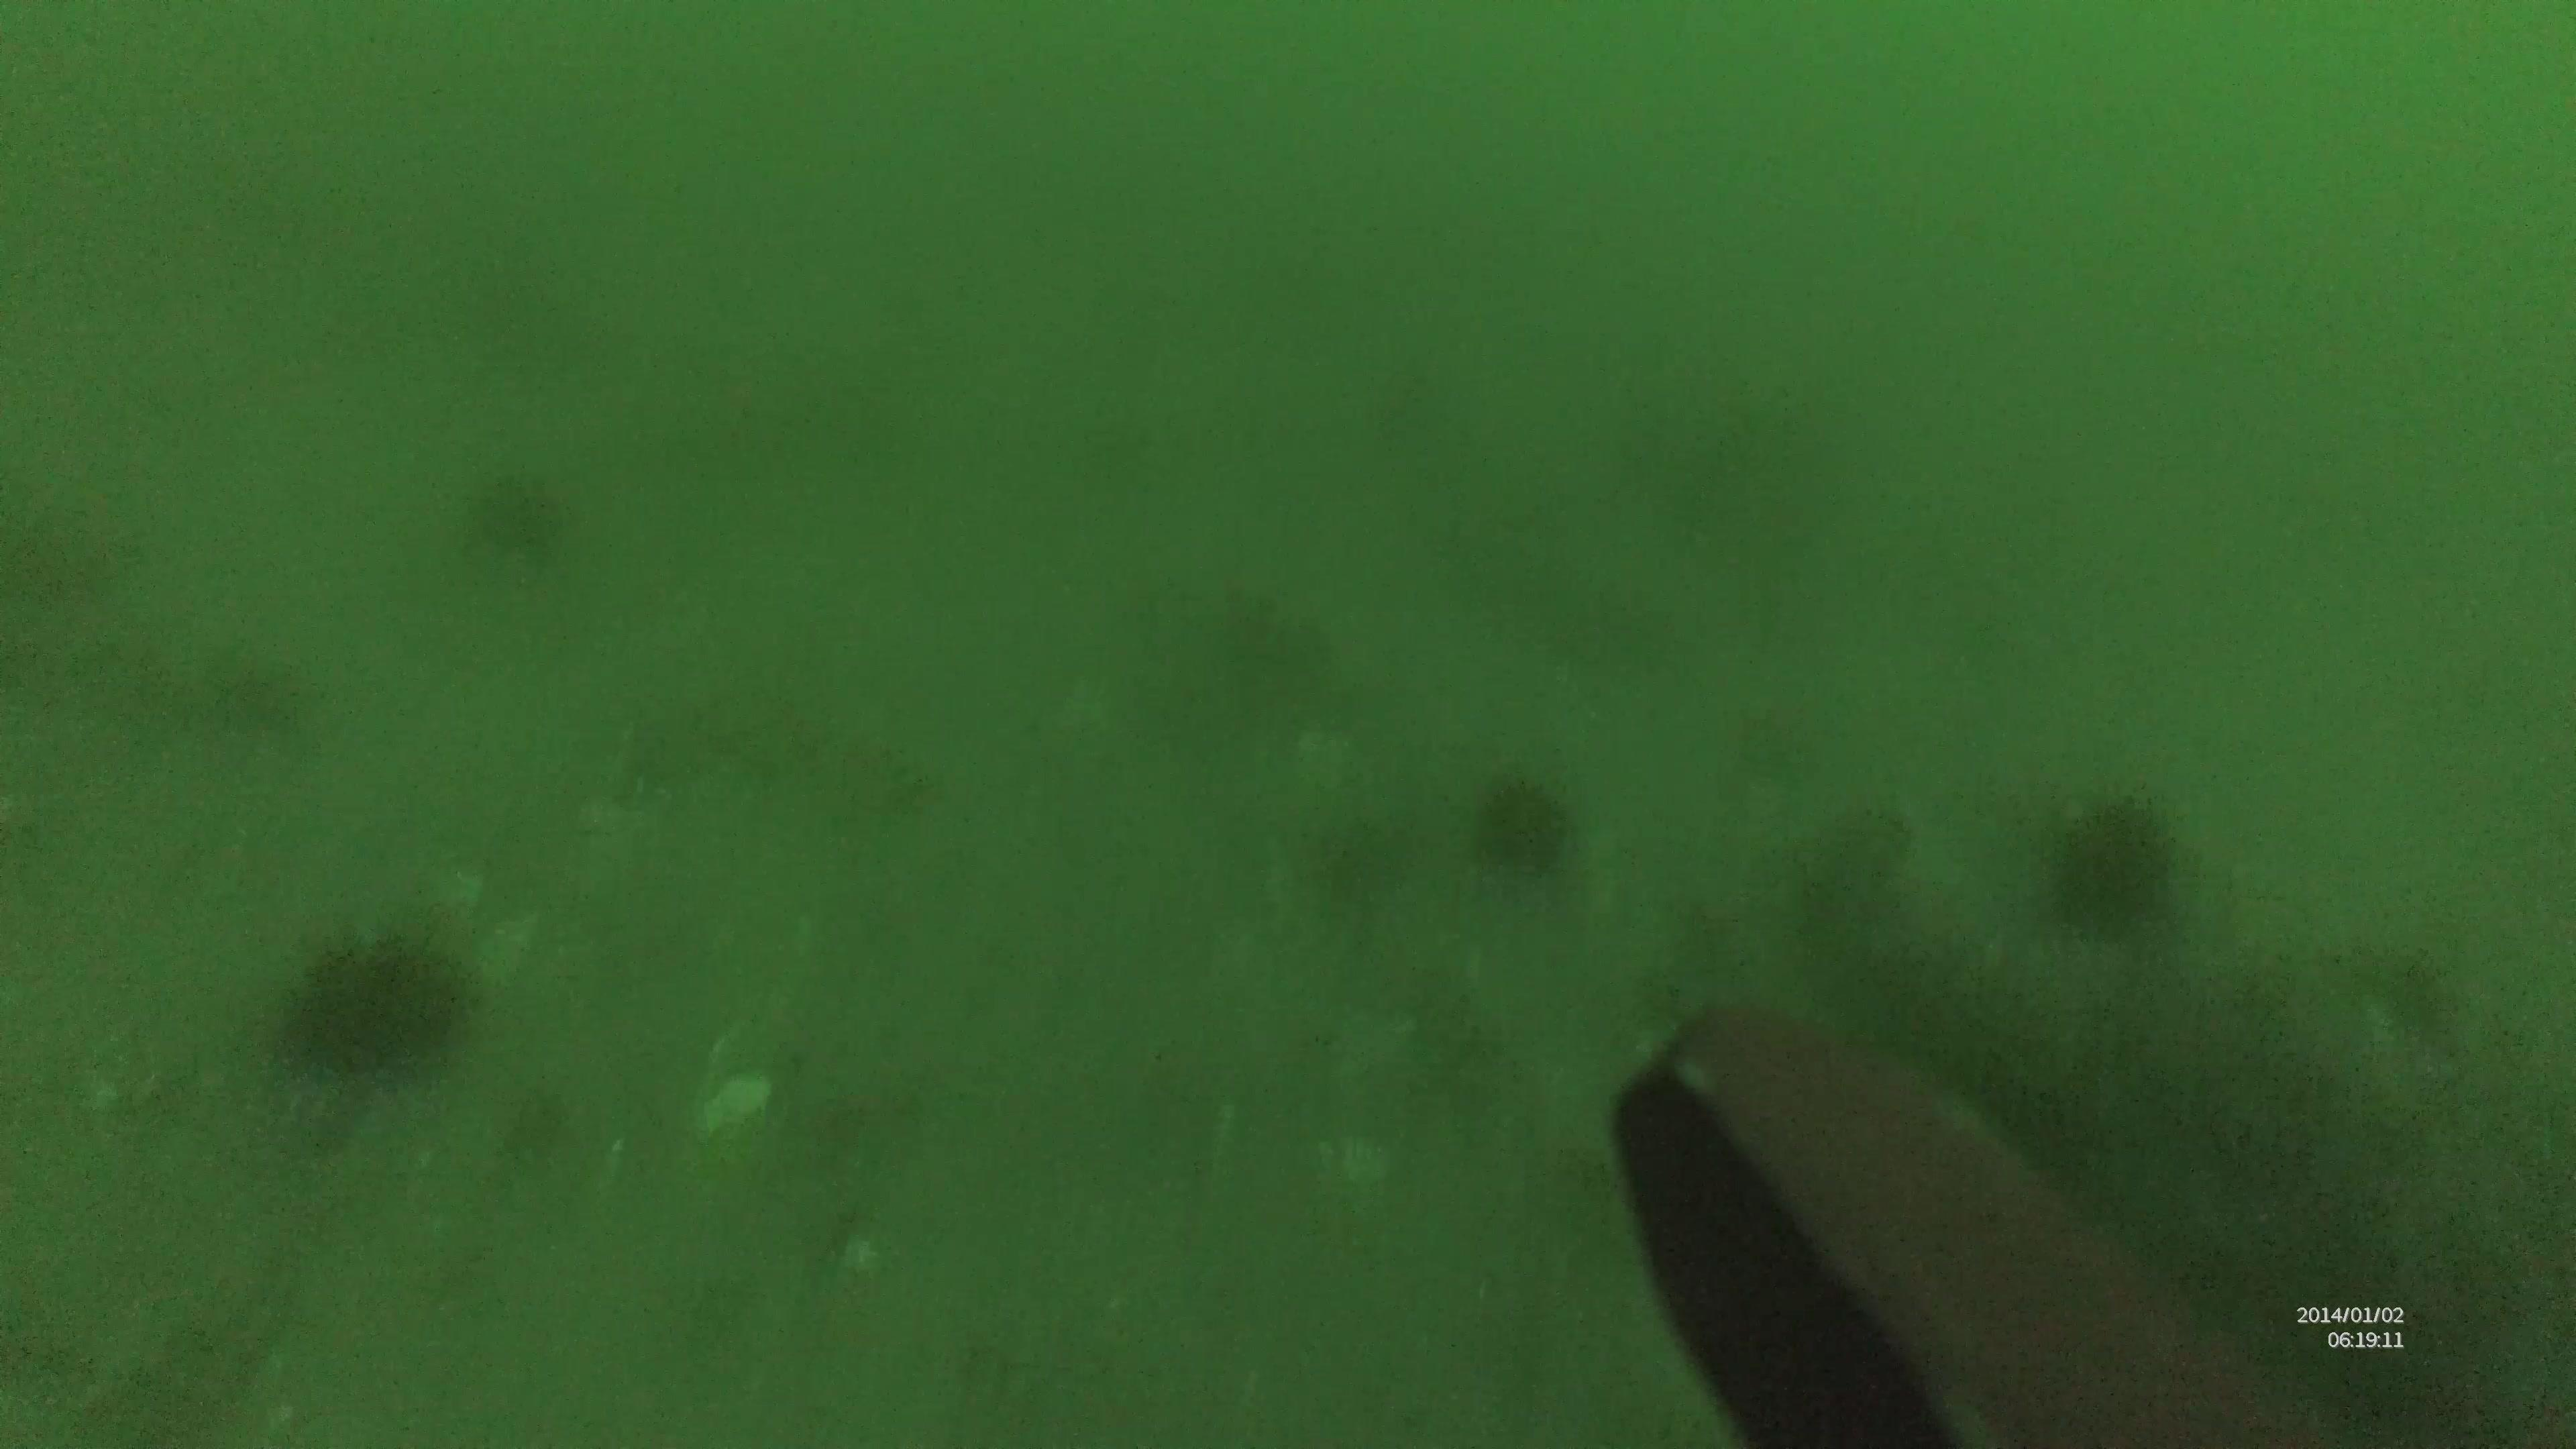echinus: (278, 934, 472, 1074), (2049, 791, 2187, 931), (1467, 771, 1582, 886)
scallop: (679, 1065, 771, 1138), (1290, 722, 1362, 793)
